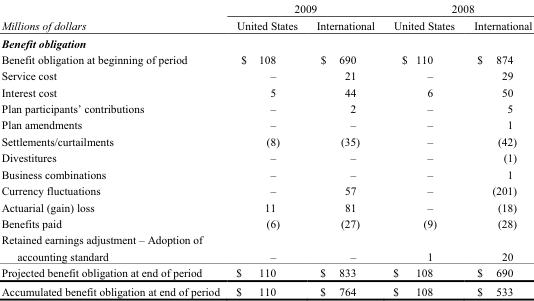table: (0, 0, 531, 298)
table column: (0, 0, 227, 298), (383, 0, 463, 298), (227, 0, 306, 298), (306, 0, 383, 298), (463, 0, 531, 298)
table column header: (0, 0, 531, 33)
table projected row header: (0, 33, 531, 50), (0, 231, 531, 247)
table row: (0, 16, 531, 33), (0, 33, 531, 50), (0, 66, 531, 83), (0, 99, 531, 116), (0, 132, 531, 149), (0, 181, 531, 198), (0, 214, 531, 231), (0, 247, 531, 264), (0, 264, 531, 281), (0, 281, 531, 298), (0, 0, 531, 16), (0, 50, 531, 66), (0, 83, 531, 99), (0, 116, 531, 132), (0, 149, 531, 165), (0, 165, 531, 181), (0, 198, 531, 214), (0, 231, 531, 247)
table spanning cell: (0, 0, 227, 33), (227, 0, 383, 16), (383, 0, 531, 16)
